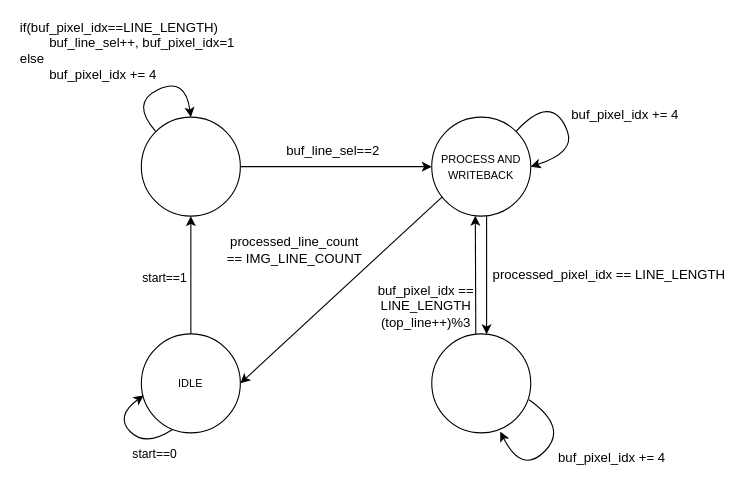
Image size: 748x493. Some labels were removed from this diagram. The shapes that lost their labels are listed below. From the top down, each one's centre as x and y in pixels, then its label:
the point at 190,166: LOAD INITIAL LINES
the point at 481,383: READ NEW LINE
